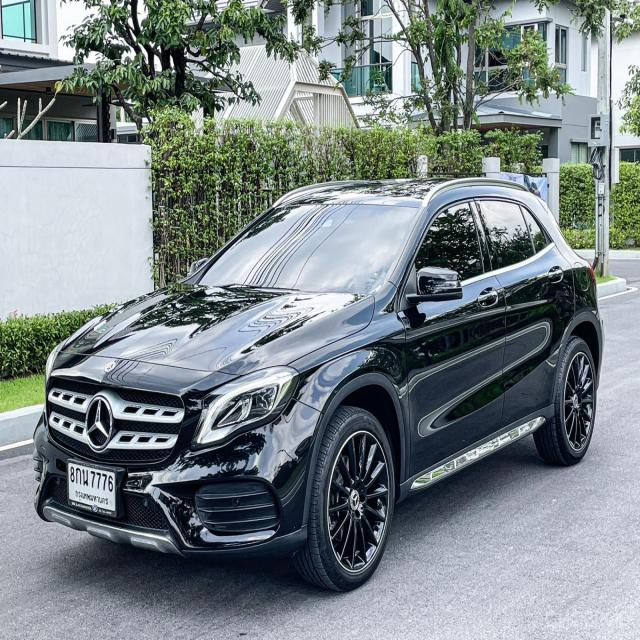license_plate: (66, 456, 125, 519)
